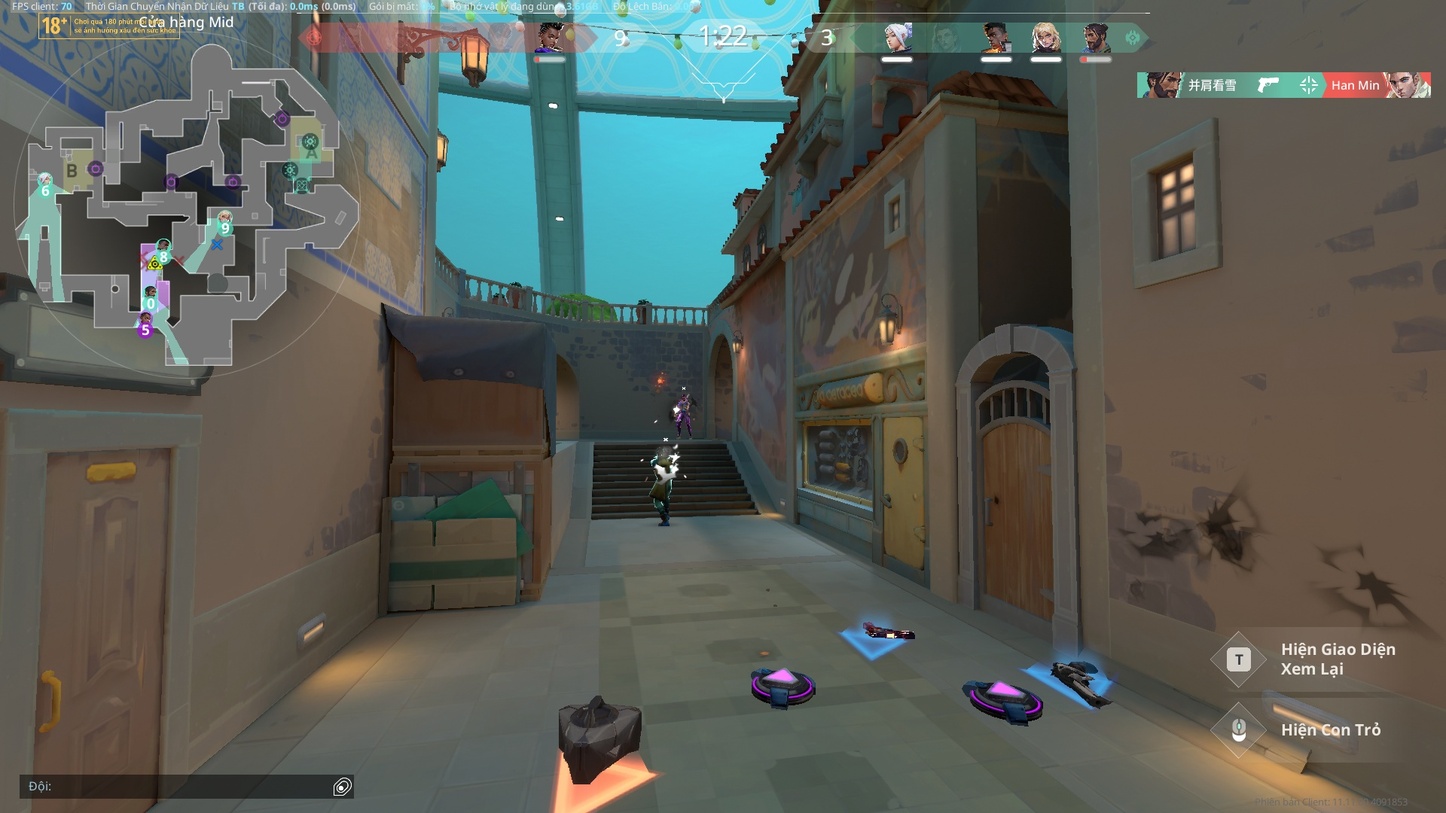body: (676, 399, 691, 414)
head: (682, 393, 686, 400)
